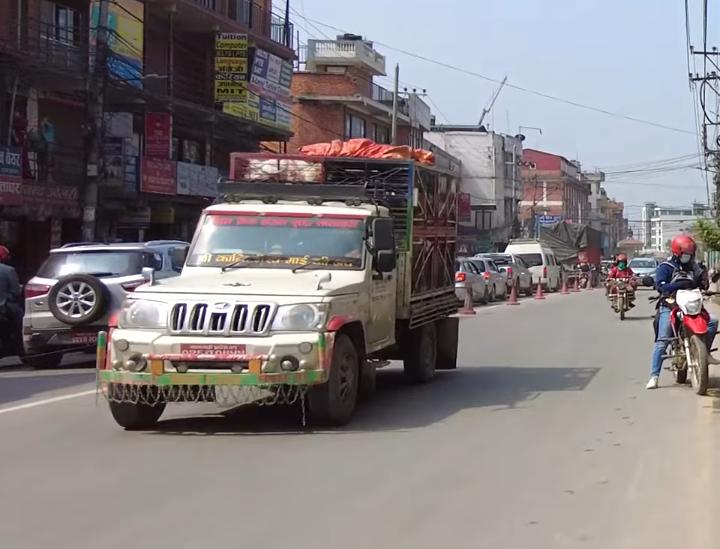bike: (644, 227, 720, 404), (595, 250, 645, 322)
car: (13, 229, 201, 373), (449, 235, 537, 318)
micro_bus: (510, 226, 575, 298)
transport_vehicle: (98, 142, 465, 438)
